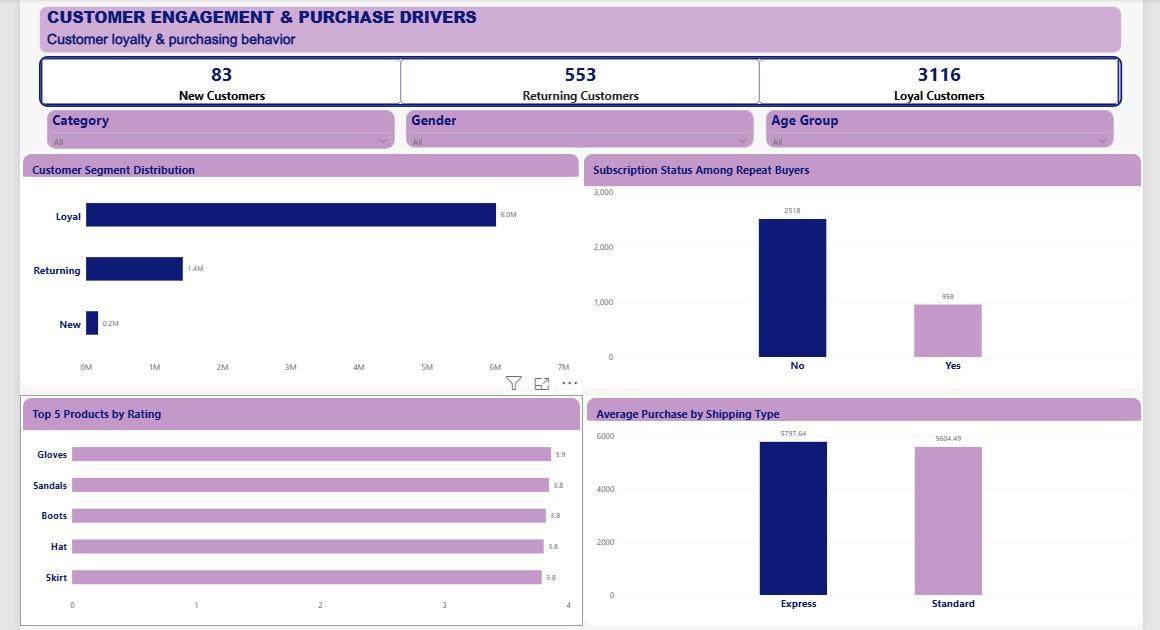

The dashboard page shown, as its layout file describes it:
{"tool":"powerbi","page":{"name":"Page 2","canvas":[1920,1080],"ordinal":1},"visuals":[{"type":"shape","box":[31.9,12.8,1850,80.9],"z":0},{"type":"textbox","title":"CUSTOMER ENGAGEMENT & PURCHASE DRIVERS","box":[46.8,12.8,752,74.5],"z":1000},{"type":"cardVisual","fields":{"Data":["customer_shopping customer_shopping.New Customers","customer_shopping customer_shopping.Returning Customers","customer_shopping customer_shopping.Loyal Customers"]},"box":[31.9,98,1851.1,87],"z":2000},{"type":"slicer","fields":{"Values":["customer_shopping customer_shopping.category"]},"box":[46.8,190,593.6,66],"z":3000},{"type":"slicer","fields":{"Values":["customer_shopping customer_shopping.gender"]},"box":[659.6,190,593.6,63.8],"z":4000},{"type":"slicer","fields":{"Values":["customer_shopping customer_shopping.age_group"]},"box":[1274,190,593.6,63.8],"z":5000},{"type":"barChart","title":"Customer Segment Distribution ","fields":{"Category":["customer_shopping customer_shopping.column_segment_2"],"Y":["Sum(customer_shopping customer_shopping.customer_id)"]},"box":[0,260,960.4,405],"z":6000},{"type":"columnChart","title":"Subscription Status Among Repeat Buyers","fields":{"Category":["customer_shopping customer_shopping.subscription_status"],"Y":["Count(customer_shopping customer_shopping.customer_id)"]},"box":[958.7,260,962.1,405],"z":7000},{"type":"barChart","title":"Top 5 Products by Rating","fields":{"Category":["customer_shopping customer_shopping.item_purchased"],"Y":["Avg(customer_shopping customer_shopping.review_rating)"]},"box":[0,677,962.1,394.7],"z":8000},{"type":"columnChart","title":"Average Purchase by Shipping Type","fields":{"Category":["customer_shopping customer_shopping.shipping_type"],"Y":["Avg(customer_shopping customer_shopping.purchase_amount)"]},"box":[963.8,677,957,394.7],"z":9000}]}

Visuals, with their boxes on the page's 1920x1080 design canvas (x1, y1, x2, y2). These are canvas units, not pixel positions in the 1160x630 screenshot, which may show the page scaled, cropped or inside an application window:
shape: bbox=[32, 13, 1882, 94]
"CUSTOMER ENGAGEMENT & PURCHASE DRIVERS" textbox: bbox=[47, 13, 799, 87]
cardVisual - customer_shopping customer_shopping.New Customers x customer_shopping customer_shopping.Returning Customers: bbox=[32, 98, 1883, 185]
slicer - customer_shopping customer_shopping.category: bbox=[47, 190, 640, 256]
slicer - customer_shopping customer_shopping.gender: bbox=[660, 190, 1253, 254]
slicer - customer_shopping customer_shopping.age_group: bbox=[1274, 190, 1868, 254]
"Customer Segment Distribution " barChart: bbox=[0, 260, 960, 665]
"Subscription Status Among Repeat Buyers" columnChart: bbox=[959, 260, 1921, 665]
"Top 5 Products by Rating" barChart: bbox=[0, 677, 962, 1072]
"Average Purchase by Shipping Type" columnChart: bbox=[964, 677, 1921, 1072]
